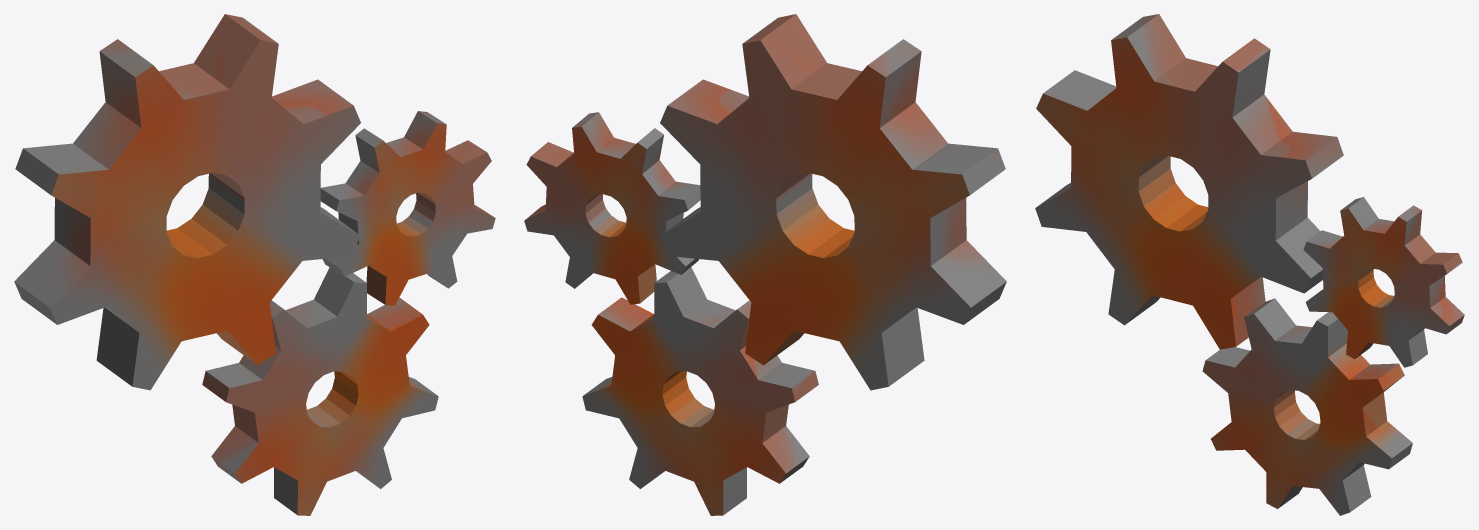
File: Laboratorio.fbx_Engrenagens.fbx
3 renders of one model, left to right at view 1: azimuth 30°, elevation 25°; view 2: azimuth 150°, elevation 25°; view 3: azimuth 330°, elevation 25°, orthographic. The views are drawn at different scales.
Visible parts, largest first — view 1: EngrenagemGrande, EngrenagemMedia, EngrenagemPequena; view 2: EngrenagemGrande, EngrenagemMedia, EngrenagemPequena; view 3: EngrenagemGrande, EngrenagemMedia, EngrenagemPequena.
Boxes of the visible parts, x1=… form: EngrenagemGrande: x1=14, y1=14, x2=360, y2=390; EngrenagemMedia: x1=202, y1=267, x2=438, y2=515; EngrenagemPequena: x1=320, y1=111, x2=495, y2=305; EngrenagemGrande: x1=660, y1=14, x2=1006, y2=390; EngrenagemMedia: x1=582, y1=267, x2=818, y2=515; EngrenagemPequena: x1=524, y1=112, x2=700, y2=304; EngrenagemGrande: x1=1035, y1=14, x2=1343, y2=349; EngrenagemMedia: x1=1202, y1=298, x2=1412, y2=515; EngrenagemPequena: x1=1303, y1=197, x2=1464, y2=367.
Bounding box in the file's own units: 75.37 × 78.23 × 10.28.
